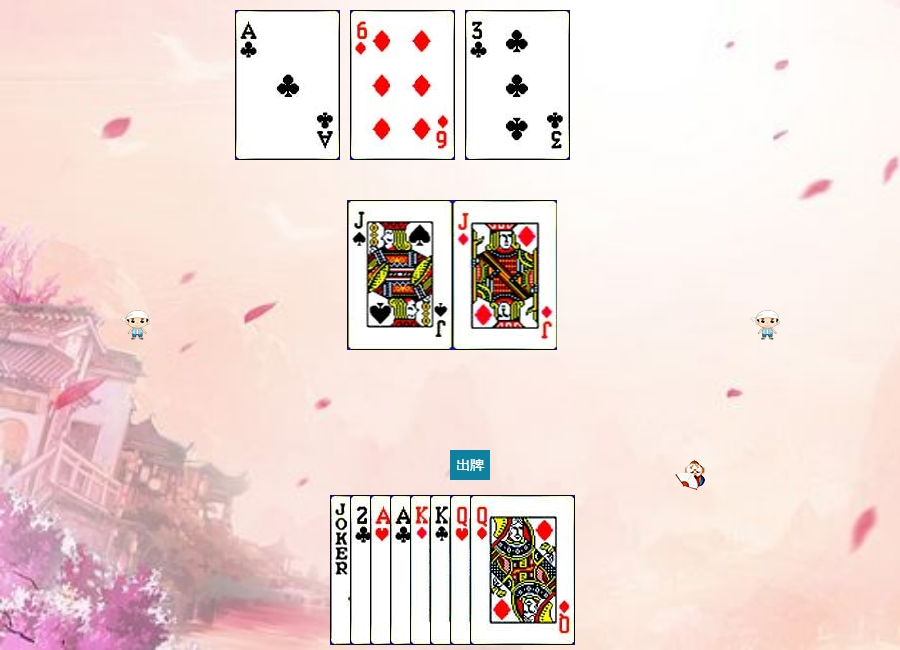11~1: (453, 200, 558, 350)
11~4: (348, 200, 453, 350)
12~1: (470, 495, 575, 645)
12~3: (450, 495, 555, 645)
13~1: (410, 495, 515, 645)
13~2: (430, 495, 535, 645)
14~2: (235, 10, 340, 160), (390, 495, 495, 645)
14~3: (370, 495, 475, 645)
15~2: (350, 495, 455, 645)
17~3: (330, 495, 435, 645)
3~2: (465, 10, 570, 160)
6~1: (350, 10, 455, 160)
